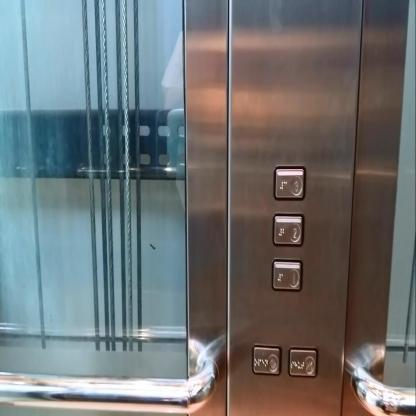1: (272, 256, 304, 293)
2: (272, 211, 305, 246)
3: (273, 163, 306, 200)
close: (287, 344, 318, 378)
open: (251, 342, 282, 376)
